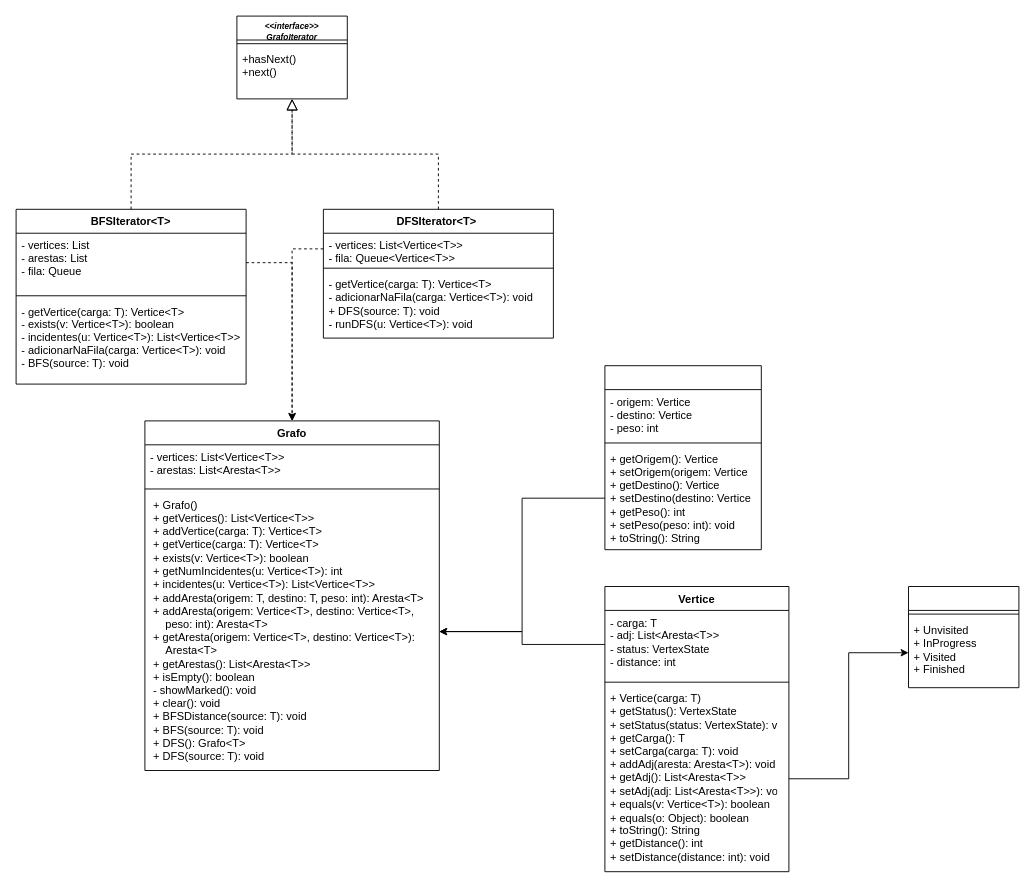
The diagram is 1035 pixels wide and 891 high, and some of its shapes have lost their labels. The box of each missing label's shape, as (x1, y1, x2, y2) in pixels:
Aresta: (604, 365, 761, 550)
VertexState: (908, 586, 1019, 688)
